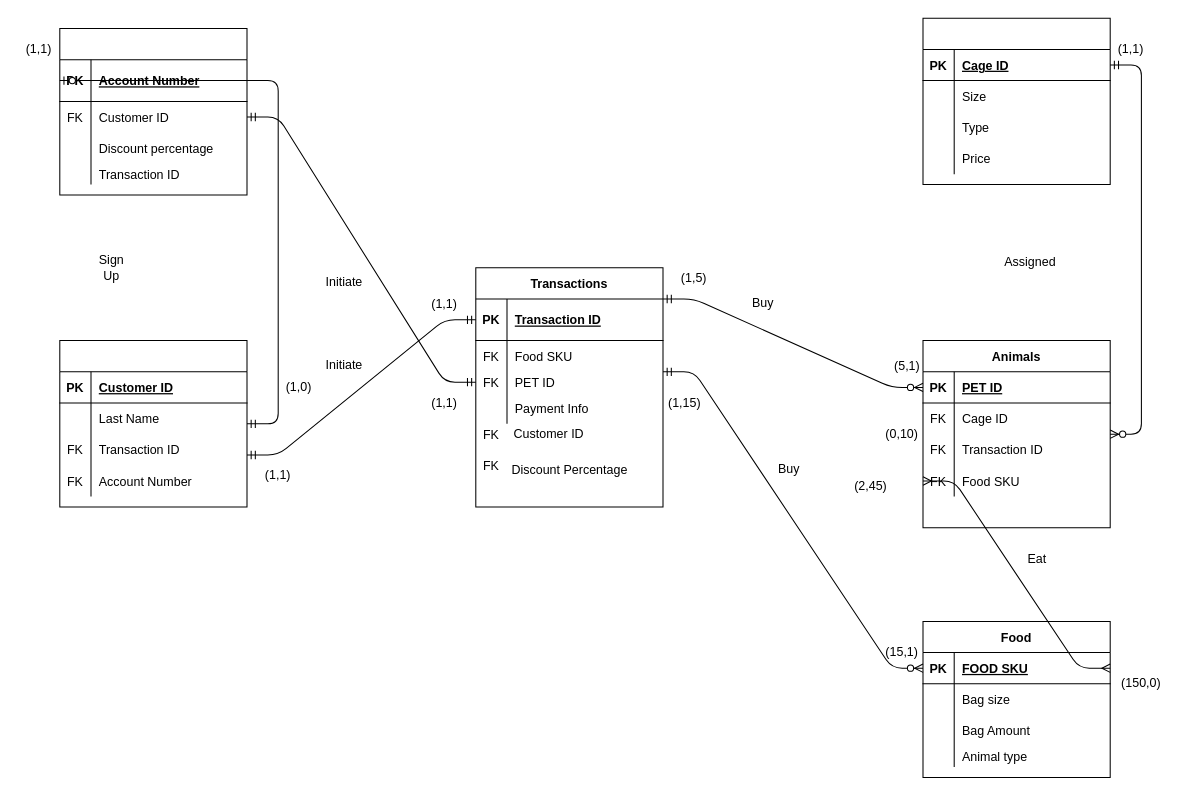
Some shapes in this 1179 by 796 pixel diagram are drawn without their labels. Here are the shapes that lost their labels. From the top down, the box of each, then its label:
(59, 28, 247, 195): Reward Members
(922, 17, 1110, 185): Enclosures
